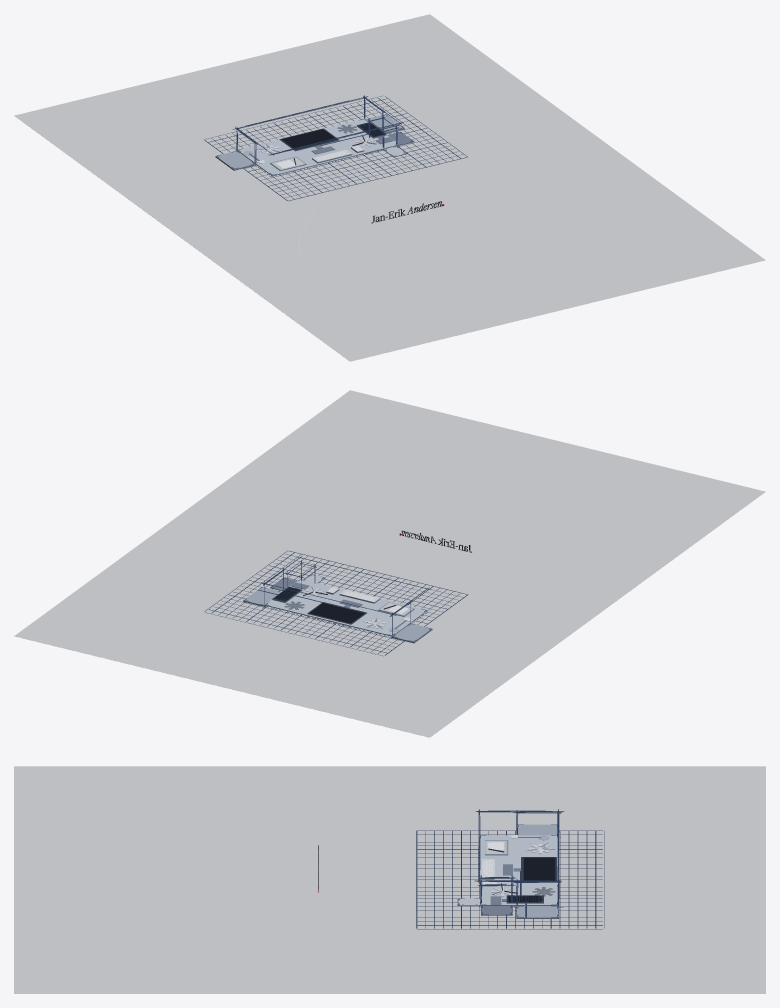
File: eroeffnung-hochkant.glb
3 renders of one model, top to bottom at view 1: azimuth 30°, elevation 25°; view 2: azimuth 150°, elevation 25°; view 3: azimuth 270°, elevation 25°, orthographic. The views are drawn at different scales.
Visible parts, largest first — view 1: Bogen, Bau_Welt, D_Platte, M_Schirm; view 2: Bogen, Bau_Welt, D_Platte, M_Schirm; view 3: Bogen, Bau_Welt, D_Platte, M_Schirm, D_BeinR, D_BeinL.
Boxes of the visible parts, x1,y1,x2,y2 form: Bogen: [14, 14, 765, 361]; Bau_Welt: [204, 95, 467, 223]; D_Platte: [237, 118, 399, 176]; M_Schirm: [279, 128, 339, 151]; Bogen: [14, 390, 765, 737]; Bau_Welt: [204, 535, 469, 656]; D_Platte: [265, 579, 427, 636]; M_Schirm: [307, 602, 366, 624]; Bogen: [14, 766, 765, 993]; Bau_Welt: [318, 809, 604, 929]; D_Platte: [479, 835, 557, 905]; M_Schirm: [521, 857, 556, 880]; D_BeinR: [517, 906, 558, 918]; D_BeinL: [517, 824, 557, 835].
Size of what is drawn, in the model's own units: 30 by 1.99 by 42.
27 materials, 11 textured.
